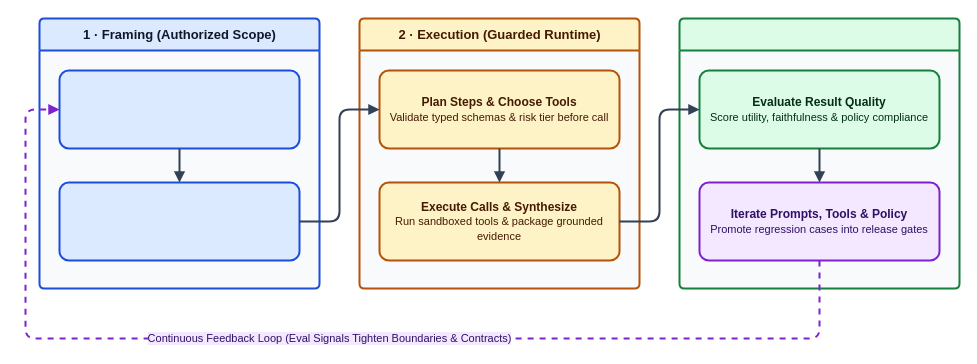
Some shapes in this 977 by 364 pixel diagram are drawn without their labels. The shapes that lost their labels are listed below. From the top down, each one's box as (x1, y1, x2, y2) in pixels, then its label:
(58, 69, 300, 149): Define Intent & Boundaries Specify user goal, allowed actions & stop rules
(678, 17, 960, 289): 3 · Improvement (Closed Loop)
(58, 181, 300, 261): Select Context & Constraints Isolate untrusted retrieved text from instructions
